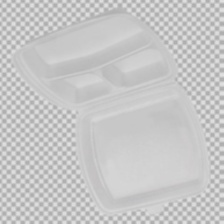foam_box: (8, 4, 212, 220)
